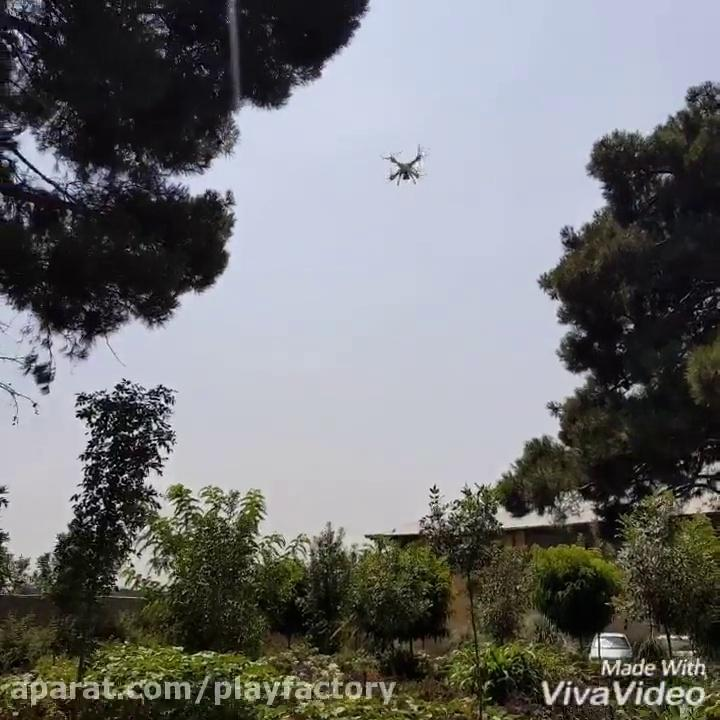drone: (377, 140, 435, 188)
